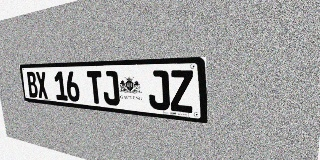1: (53, 71, 68, 101)
6: (65, 71, 80, 102)
B: (26, 72, 39, 98)
J: (147, 70, 170, 111), (101, 71, 120, 106)
T: (87, 71, 104, 104)
X: (35, 72, 49, 99)
Z: (169, 70, 194, 113)
